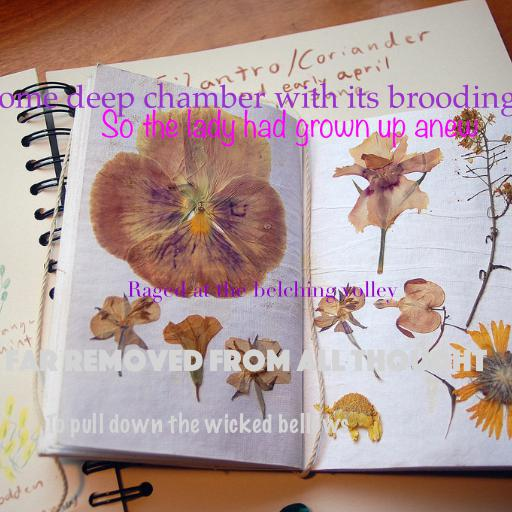Didot: (127, 281, 397, 303)
Marker Felt: (45, 412, 349, 438)
Noteworthy: (100, 109, 478, 148)
Palatino: (0, 82, 512, 117)
Phosphate: (5, 349, 487, 372)
